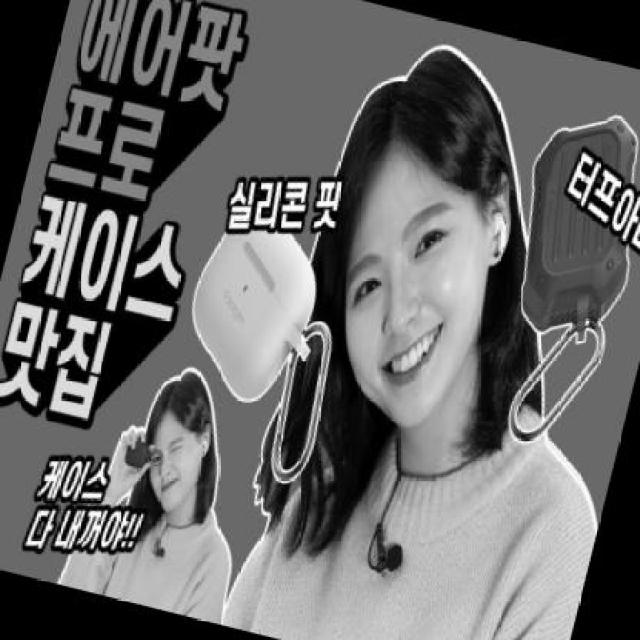earphone: (482, 197, 514, 259), (195, 433, 230, 470)
